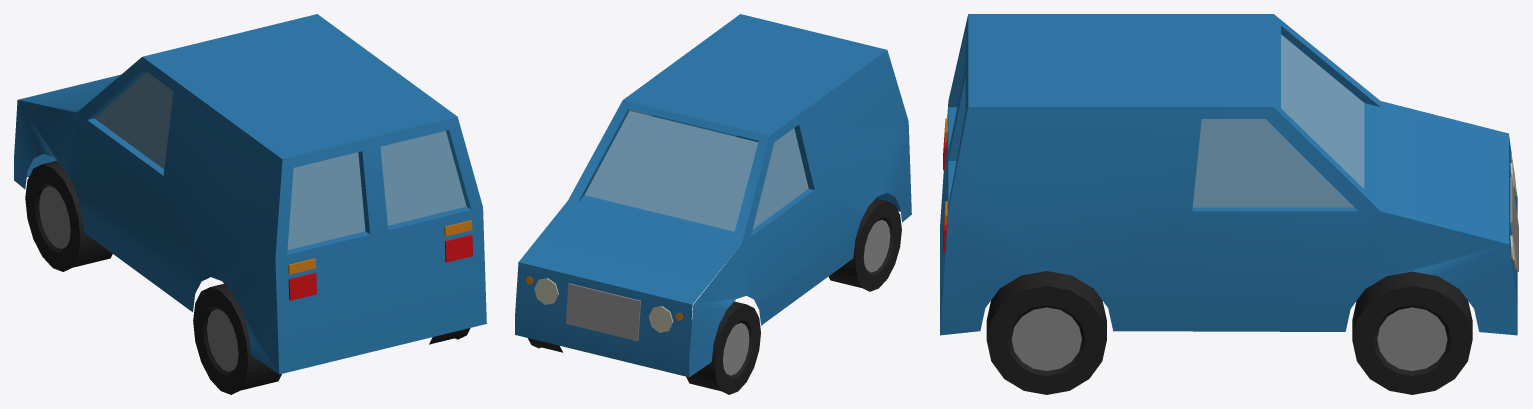
Rendered from new_blue_van.fbx.
The picture shows the model from 3 angles, left to right: view 1: azimuth 30°, elevation 25°; view 2: azimuth 150°, elevation 25°; view 3: azimuth 270°, elevation 25°; orthographic projection. The views are drawn at different scales.
Parts seen in each view (by area): view 1: car-microcargo-blue_Cube.572_carmaterial_blue, car-microcargo-blue_Cube.572_windows, car-microcargo-blue_Cube.572_tires, car-microcargo-blue_Cube.572_metal, car-microcargo-blue_Cube.572_lights.red, car-microcargo-blue_Cube.572_lights.orange; view 2: car-microcargo-blue_Cube.572_carmaterial_blue, car-microcargo-blue_Cube.572_windows, car-microcargo-blue_Cube.572_tires, car-microcargo-blue_Cube.572_metal, car-microcargo-blue_Cube.572_lights; view 3: car-microcargo-blue_Cube.572_carmaterial_blue, car-microcargo-blue_Cube.572_tires, car-microcargo-blue_Cube.572_windows, car-microcargo-blue_Cube.572_metal.
Boxes of the visible parts, <box> form: car-microcargo-blue_Cube.572_carmaterial_blue: <box>14,14,486,374</box>; car-microcargo-blue_Cube.572_windows: <box>94,72,466,249</box>; car-microcargo-blue_Cube.572_tires: <box>25,160,470,394</box>; car-microcargo-blue_Cube.572_metal: <box>39,186,238,371</box>; car-microcargo-blue_Cube.572_lights.red: <box>288,234,473,300</box>; car-microcargo-blue_Cube.572_lights.orange: <box>288,220,472,274</box>; car-microcargo-blue_Cube.572_carmaterial_blue: <box>515,14,911,377</box>; car-microcargo-blue_Cube.572_windows: <box>584,109,808,231</box>; car-microcargo-blue_Cube.572_tires: <box>528,198,901,394</box>; car-microcargo-blue_Cube.572_metal: <box>565,219,890,375</box>; car-microcargo-blue_Cube.572_lights: <box>534,278,673,332</box>; car-microcargo-blue_Cube.572_carmaterial_blue: <box>940,14,1517,335</box>; car-microcargo-blue_Cube.572_tires: <box>986,271,1472,394</box>; car-microcargo-blue_Cube.572_windows: <box>1192,34,1364,207</box>; car-microcargo-blue_Cube.572_metal: <box>1011,177,1518,370</box>.
Size of the model in its own units: 0.8967 by 0.9513 by 1.82.
